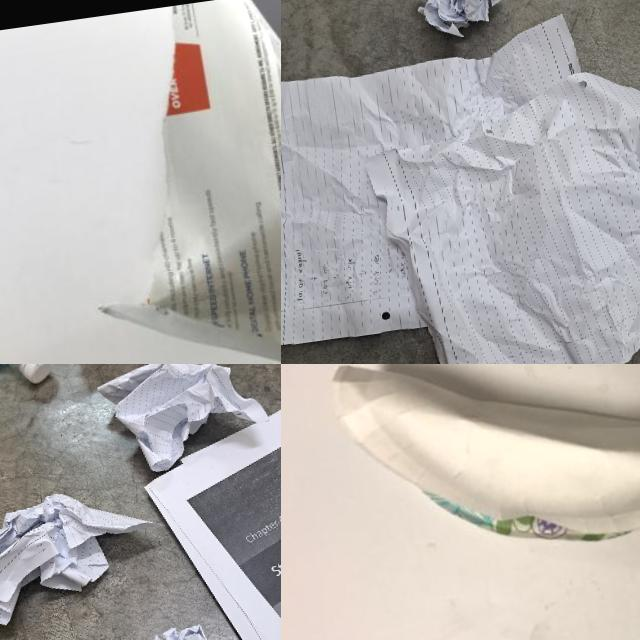papel: (281, 0, 640, 364), (59, 0, 281, 364), (321, 364, 640, 577), (131, 364, 281, 640), (0, 480, 164, 637), (95, 364, 275, 479), (408, 0, 510, 37)
tampa plástica: (19, 364, 53, 387)
